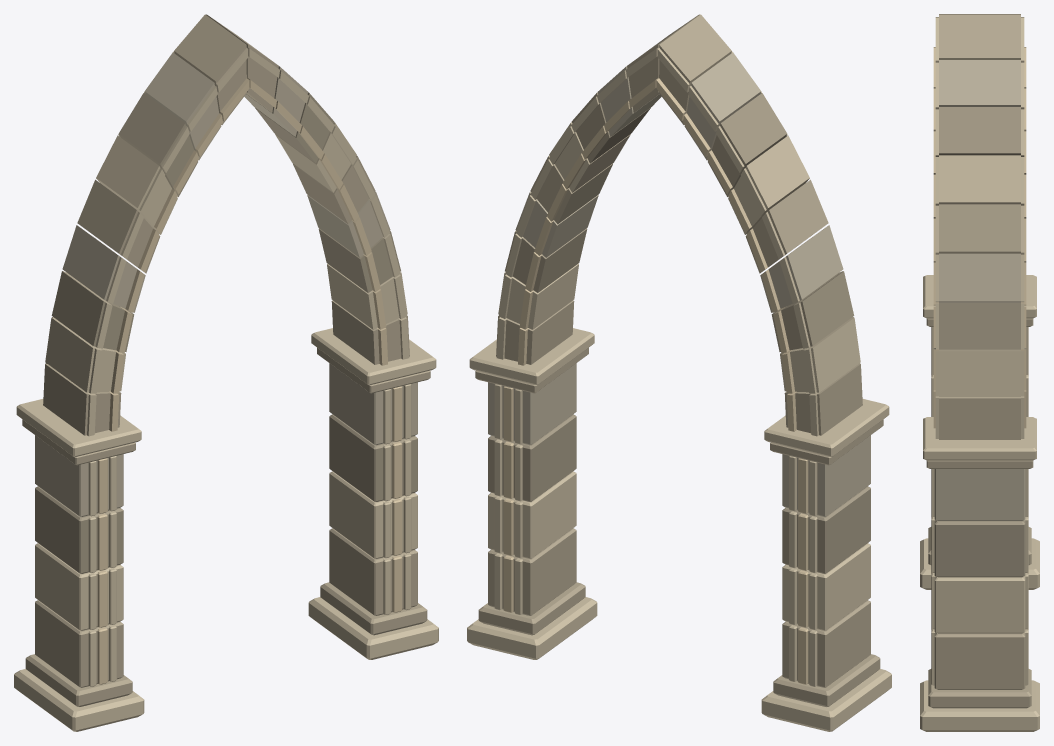
File: Arch_Lancet_4m.fbx
3 renders of one model, left to right at view 1: azimuth 30°, elevation 25°; view 2: azimuth 150°, elevation 25°; view 3: azimuth 270°, elevation 25°, orthographic.
Visible parts, largest first — view 1: Arch_Lancet_4m; view 2: Arch_Lancet_4m; view 3: Arch_Lancet_4m.
Boxes of the visible parts, x1,y1,x2,y2 form: Arch_Lancet_4m: (14, 14, 438, 731); Arch_Lancet_4m: (467, 14, 891, 731); Arch_Lancet_4m: (920, 14, 1039, 731).
Bounding box in the file's own units: 3.56 × 5.93 × 1.02.
